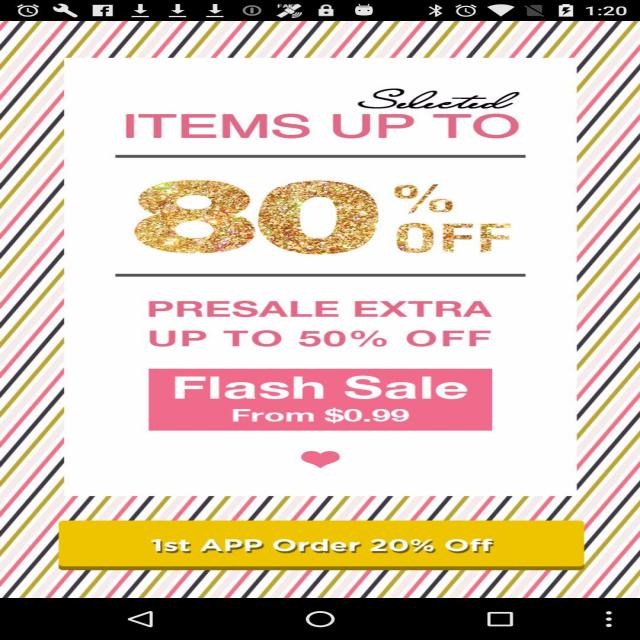text: (51, 71, 640, 590)
